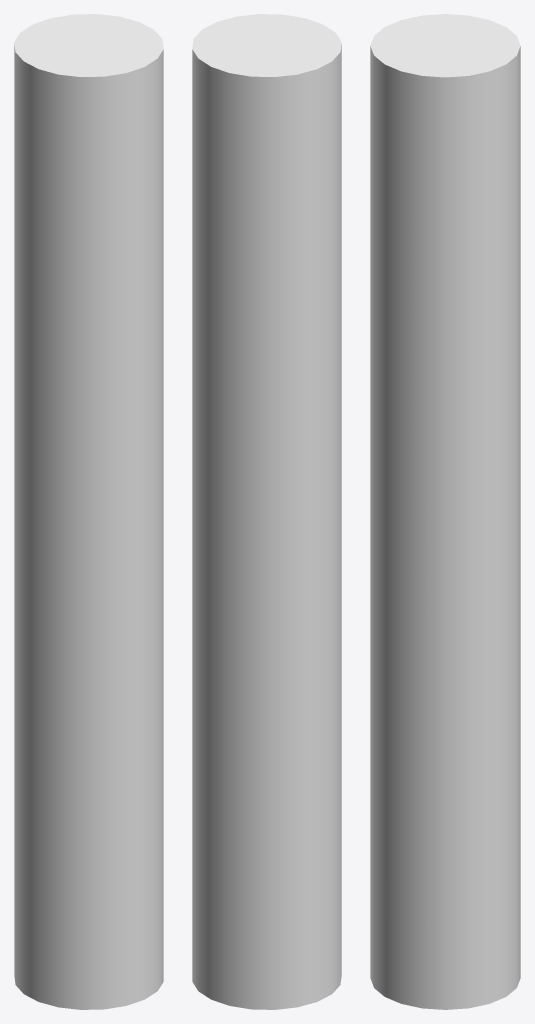
The model's file is paloBase3.obj.
3 views of the same model, side by side, from view 1: azimuth 30°, elevation 25°; view 2: azimuth 150°, elevation 25°; view 3: azimuth 270°, elevation 25° (orthographic).
Visible parts, largest first — view 1: pasted__pasted__pCylinder1 pasted__group group9; view 2: pasted__pasted__pCylinder1 pasted__group group9; view 3: pasted__pasted__pCylinder1 pasted__group group9.
Boxes of the visible parts, <box> form: pasted__pasted__pCylinder1 pasted__group group9: <box>14,14,163,1009</box>; pasted__pasted__pCylinder1 pasted__group group9: <box>192,14,341,1009</box>; pasted__pasted__pCylinder1 pasted__group group9: <box>370,14,520,1009</box>.
Size of the model in its own units: 1.17 by 7.99 by 1.17.
1 material, 1 textured.
